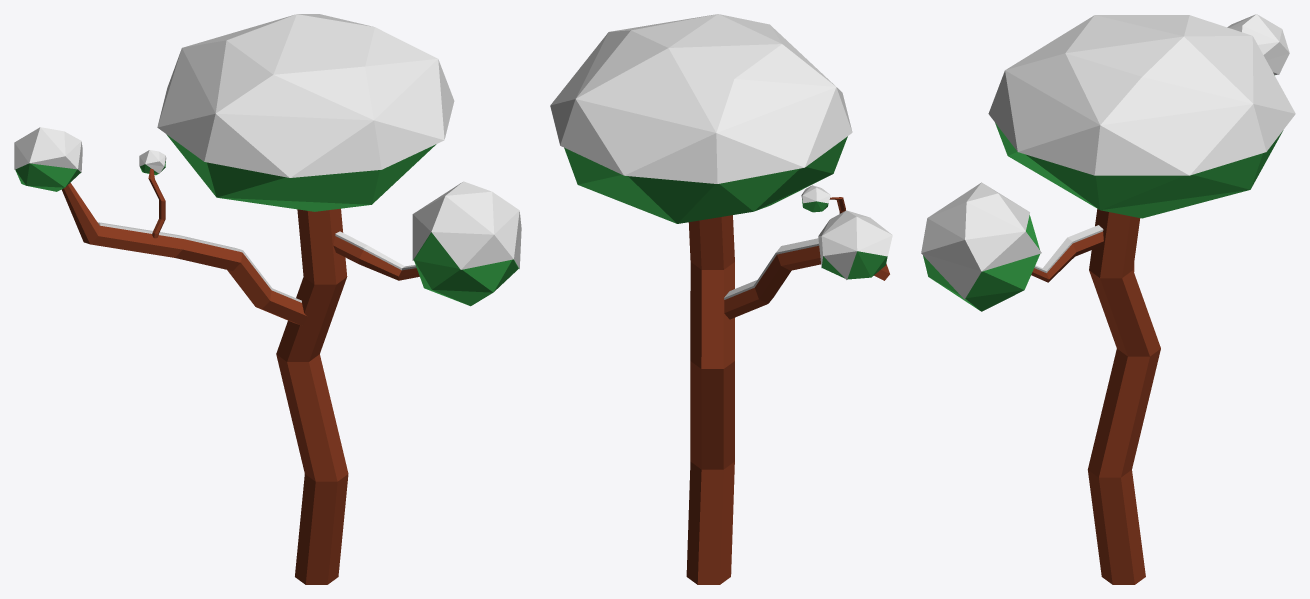
Rendered from tree.017.fbx.
3 renders of one model, left to right at view 1: azimuth 30°, elevation 25°; view 2: azimuth 150°, elevation 25°; view 3: azimuth 270°, elevation 25°, orthographic.
Visible parts, largest first — view 1: Tree.017; view 2: Tree.017; view 3: Tree.017.
Boxes of the visible parts, x1=… form: Tree.017: x1=14, y1=14, x2=521, y2=584; Tree.017: x1=550, y1=14, x2=892, y2=584; Tree.017: x1=921, y1=14, x2=1295, y2=584.
Size of the model in its own units: 593 by 816 by 508.
